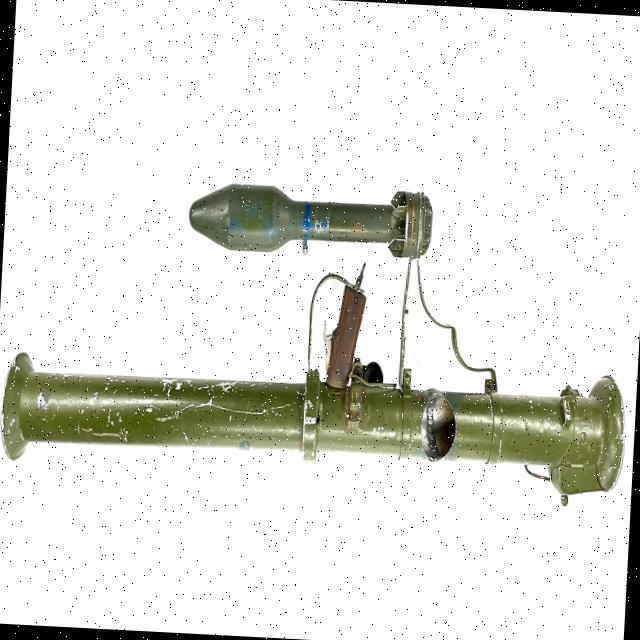Bazooka: (0, 254, 632, 513)
